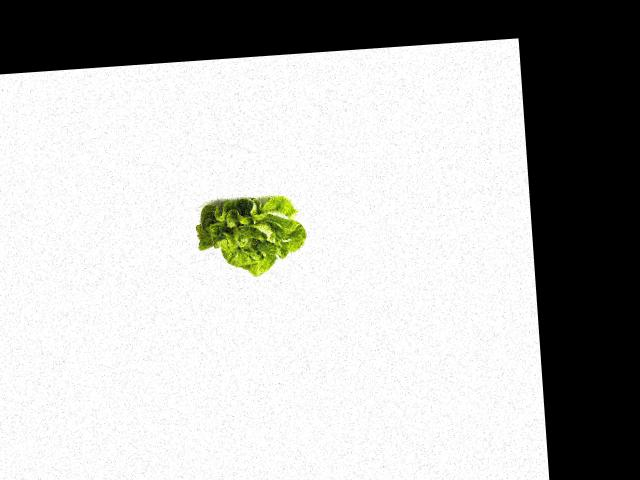lettuce: (192, 192, 312, 279)
